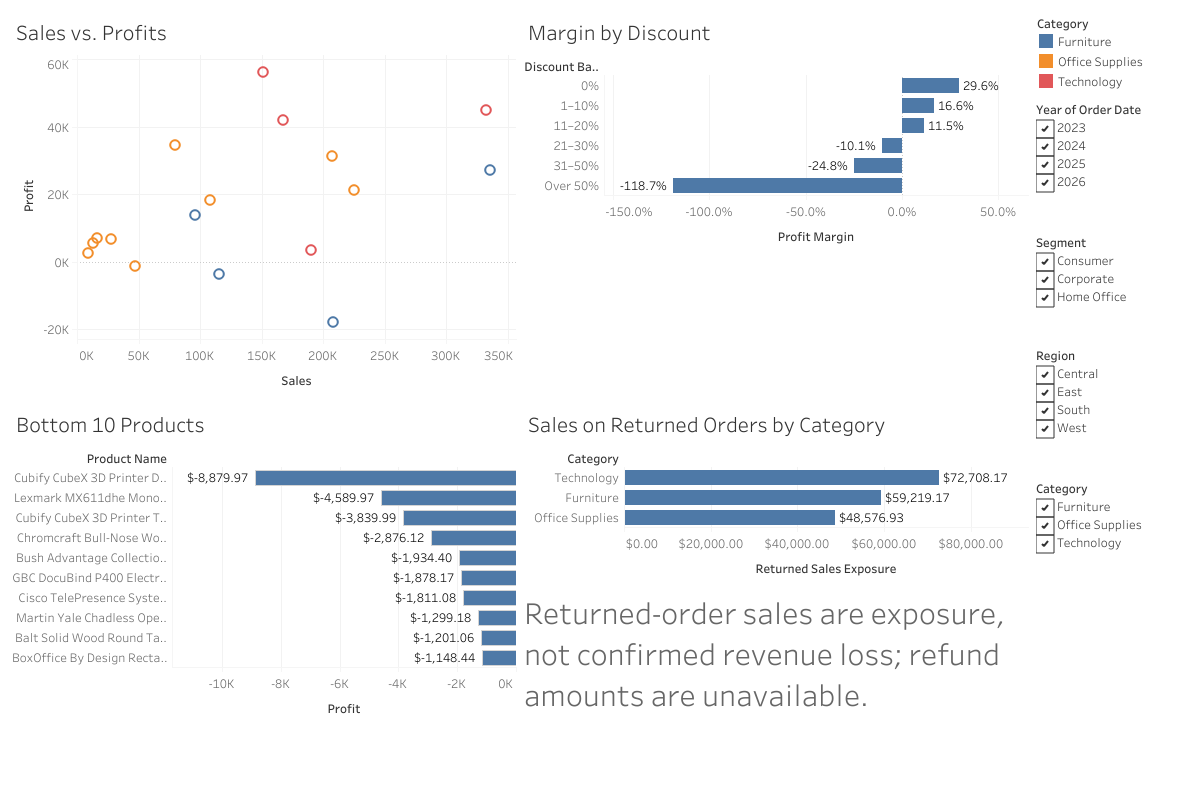

The page's visual inventory and layout, read from the dashboard file:
{"tool":"tableau","page":{"name":"Margin Risk","canvas":[1200,800],"ordinal":3},"visuals":[{"type":"worksheet","title":"Sales vs. Profits","mark":"Automatic","rows":["profit"],"cols":["sales"],"box":[8,8,512,392]},{"type":"worksheet","title":"Margin by Discount","mark":"Bar","rows":["Calculation_8095745500233732"],"cols":["Calculation_8095745499725824"],"box":[520,8,512,392]},{"type":"legend","title":"Sales vs. Profits","param":"[federated.0x1j8qj0gogspi17l3nct066p57f].[none:category:nk]","box":[1032,8,160,86]},{"type":"filter","title":"Return Exposure","param":"[federated.0x1j8qj0gogspi17l3nct066p57f].[yr:order_date:ok]","box":[1032,94,160,127]},{"type":"filter","title":"Return Exposure","param":"[federated.0x1j8qj0gogspi17l3nct066p57f].[none:segment:nk]","box":[1032,221,160,108]},{"type":"filter","title":"Return Exposure","param":"[federated.0x1j8qj0gogspi17l3nct066p57f].[none:region:nk]","box":[1032,329,160,127]},{"type":"worksheet","title":"Bottom 10 Products","mark":"Automatic","rows":["product_name"],"cols":["profit"],"box":[8,400,512,392]},{"type":"worksheet","title":"Return Exposure","mark":"Bar","rows":["category"],"cols":["Calculation_2524798487519234"],"box":[520,400,512,392]},{"type":"filter","title":"Return Exposure","param":"[federated.0x1j8qj0gogspi17l3nct066p57f].[none:category:nk]","box":[1032,456,160,108]}]}

Visuals, with their boxes in screenshot pixels (x1, y1, x2, y2), scaled from the page's 1200x800 canvas onto the 1199x799 screenshot:
"Sales vs. Profits" worksheet: [8, 8, 520, 400]
"Margin by Discount" worksheet (Bar marks): [520, 8, 1031, 400]
"Sales vs. Profits" legend: [1031, 8, 1191, 94]
"Return Exposure" filter: [1031, 94, 1191, 221]
"Return Exposure" filter: [1031, 221, 1191, 329]
"Return Exposure" filter: [1031, 329, 1191, 455]
"Bottom 10 Products" worksheet: [8, 400, 520, 791]
"Return Exposure" worksheet (Bar marks): [520, 400, 1031, 791]
"Return Exposure" filter: [1031, 455, 1191, 563]
